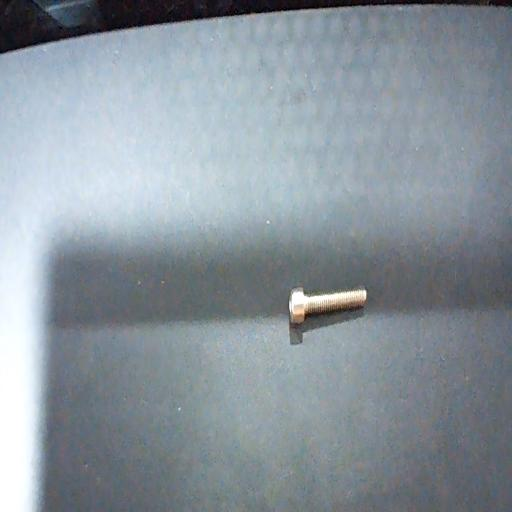screw: (289, 288, 367, 322)
